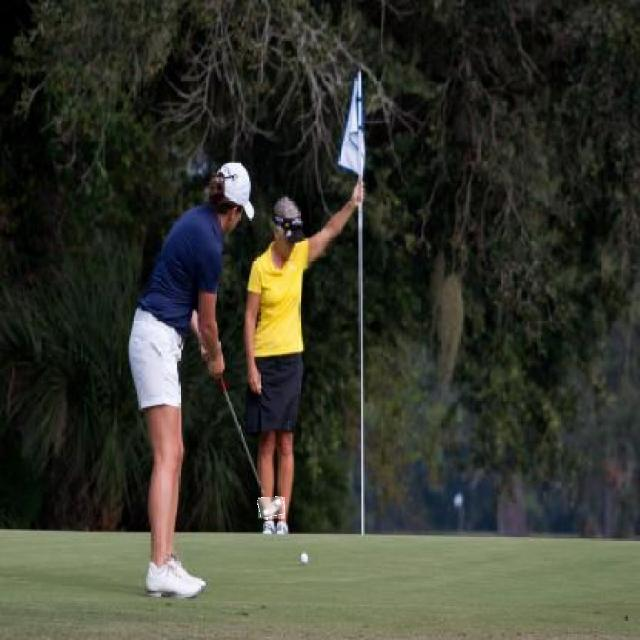club head: (258, 498, 285, 520)
